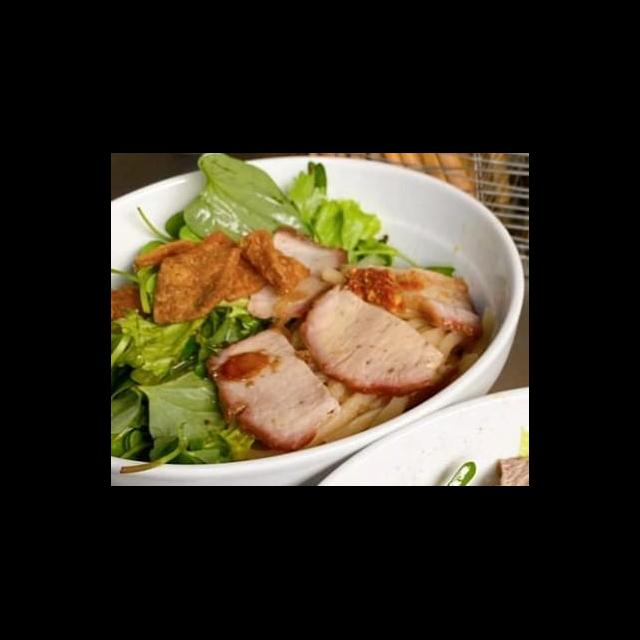banh da: (149, 226, 245, 328), (214, 228, 312, 306), (129, 237, 199, 276), (112, 280, 156, 326)
mi: (302, 376, 415, 452), (397, 304, 500, 372)
mi quang: (111, 174, 498, 460)
thit heo: (296, 280, 463, 398), (202, 324, 344, 456), (339, 262, 486, 344), (243, 222, 352, 324)
